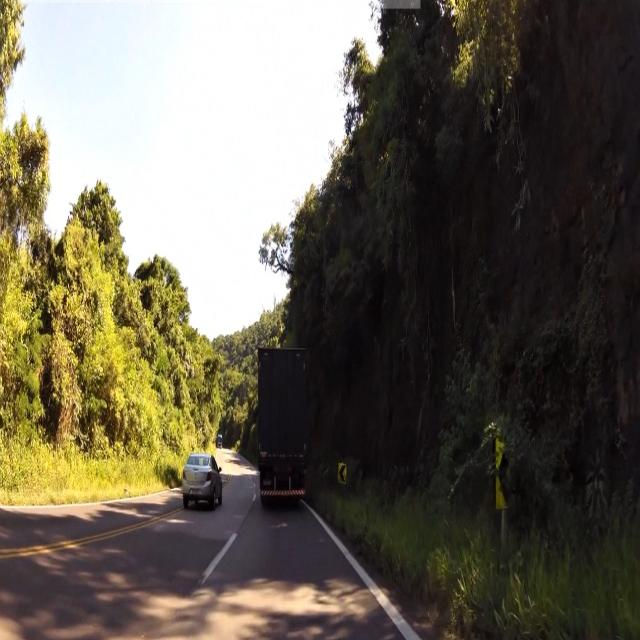Del: (494, 436, 525, 509), (337, 464, 348, 486)
